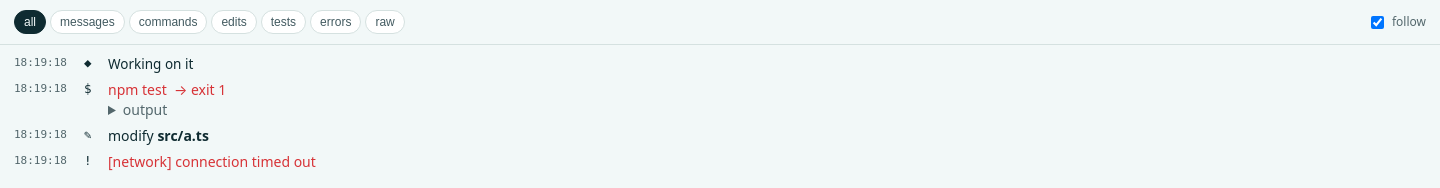
Test: Transcript › renders structured events and filters them
The image size is (1440, 188).
Expected: the text "Working on it" is shown, [108, 55, 193, 73]
Expected: the text "src/a.ts" is shown, [157, 126, 209, 145]
Click the button "errors" at (336,22), box [310, 10, 361, 34]
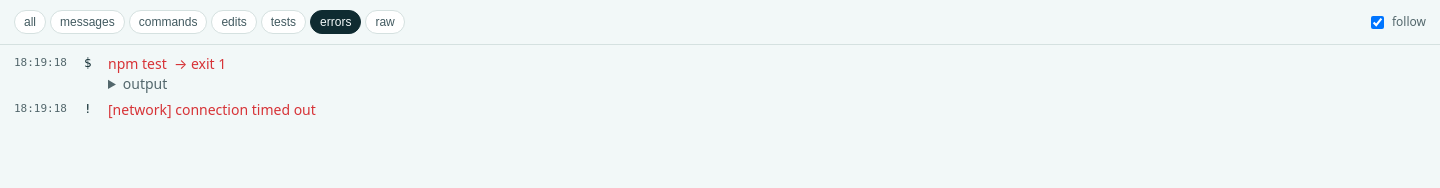
Expected: the text "[network] connection timed out" is shown, [108, 100, 316, 119]
Expected: the text "Working on it" is gone
